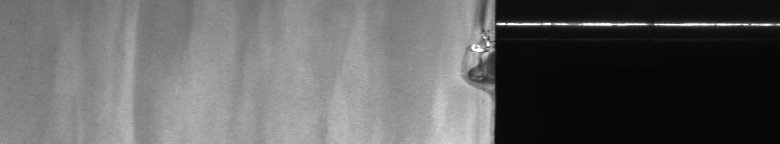hb: (456, 4, 484, 102)
